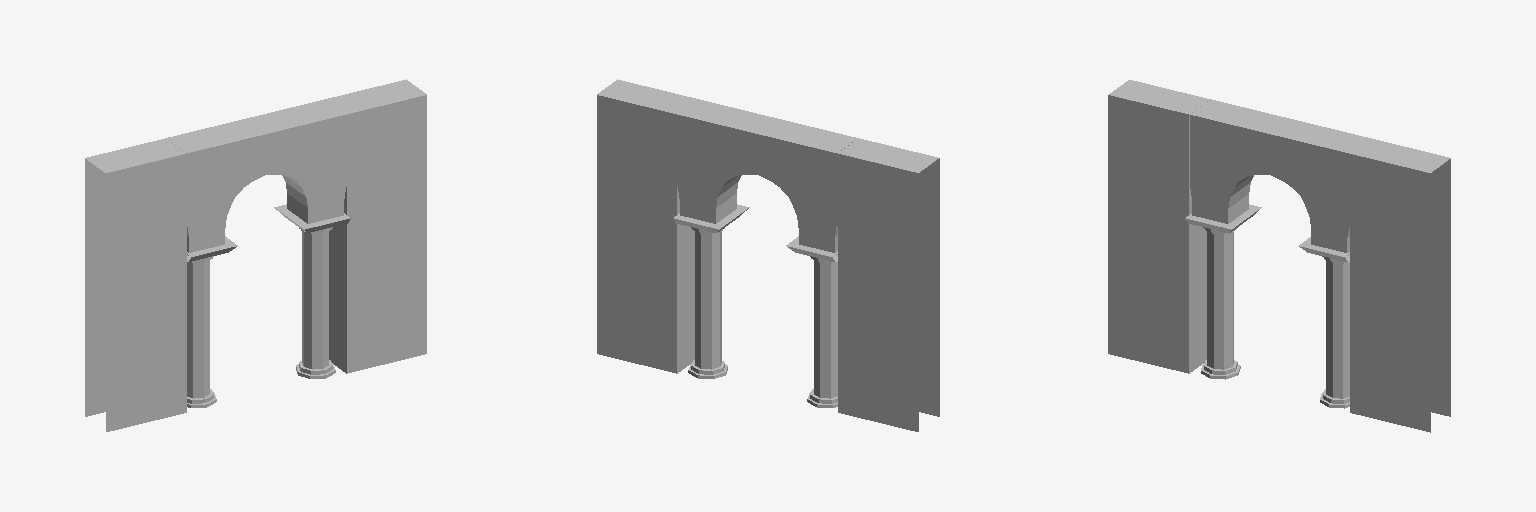
The model's file is Archway.obj.
3 views of the same model, side by side, from view 1: azimuth 30°, elevation 25°; view 2: azimuth 150°, elevation 25°; view 3: azimuth 330°, elevation 25° (orthographic).
Parts seen in each view (by area): view 1: Box001, Box002, Connecting_Arch, Pillars; view 2: Box001, Box002, Connecting_Arch, Pillars; view 3: Box002, Box001, Connecting_Arch, Pillars.
Boxes of the visible parts, box(x1,y1,x2,y2) form: Box001: box(85, 138, 186, 431); Box002: box(326, 79, 426, 373); Connecting_Arch: box(166, 99, 350, 261); Pillars: box(187, 227, 335, 407); Box001: box(838, 138, 939, 431); Box002: box(597, 79, 697, 373); Connecting_Arch: box(673, 99, 857, 261); Pillars: box(688, 227, 837, 407); Box002: box(1350, 138, 1450, 432); Box001: box(1108, 80, 1209, 373); Connecting_Arch: box(1185, 99, 1369, 262); Pillars: box(1201, 227, 1349, 408).
Bounding box in the file's own units: 103 × 78.86 × 16.79.